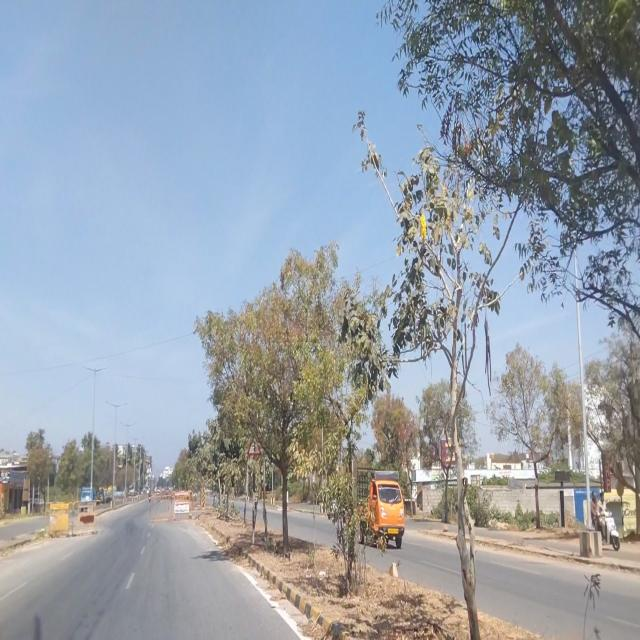bien_cam: (247, 430, 261, 458)
